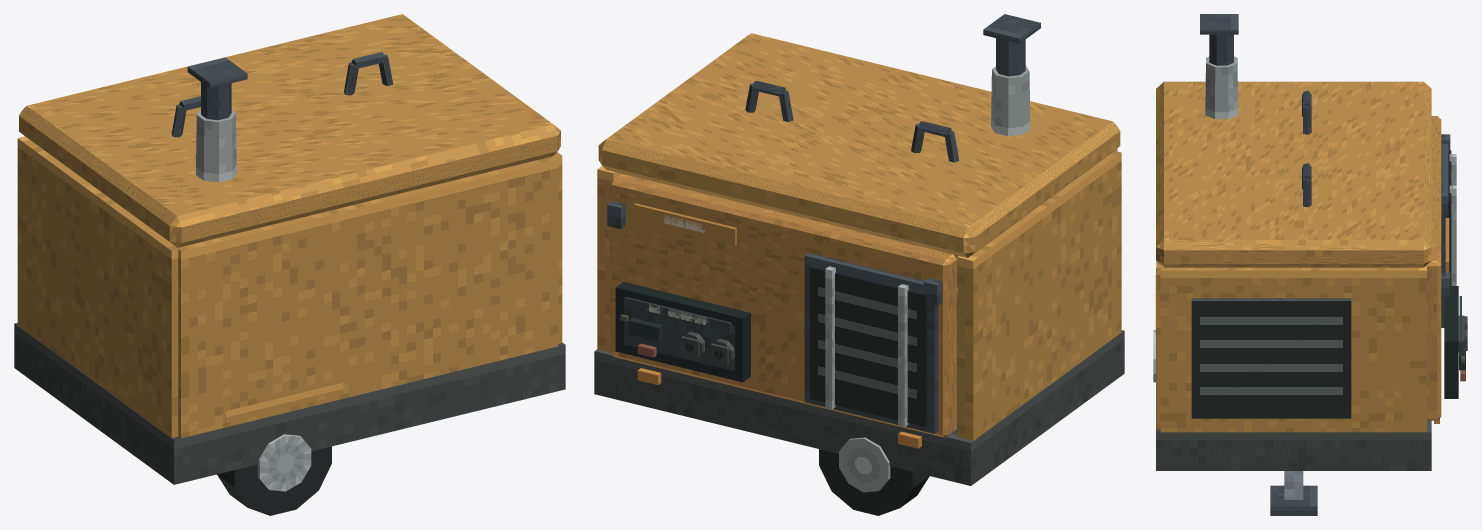
File: f_diesel_generator.glb
3 renders of one model, left to right at view 1: azimuth 30°, elevation 25°; view 2: azimuth 150°, elevation 25°; view 3: azimuth 270°, elevation 25°, orthographic. The views are drawn at different scales.
Visible parts, largest first — view 1: block_enclosure-back, block_enclosure-roof, block_enclosure-side (×2), block_reinforced-base, block_worksite-trailer-wheel, block_exhaust-heat-shield, block_trailer-wheel-hub, block_wheel-arch, block_exhaust-rain-cap, block_exhaust-stack; view 2: block_enclosure-roof, block_enclosure-side (×2), block_service-door, block_reinforced-base, block_recessed-radiator-face, block_recessed-output-panel, block_radiator-bezel, block_worksite-trailer-wheel, block_radiator-vertical-guard (×2), block_exhaust-heat-shield, block_trailer-wheel-hub, block_service-identification (+4 smaller); view 3: block_enclosure-roof, block_enclosure-side, block_side-vent, block_reinforced-base, block_service-door, block_exhaust-heat-shield, block_recessed-output-panel, block_parking-jack-foot, block_radiator-bezel, block_enclosure-back, block_exhaust-rain-cap, block_exhaust-stack (+3 smaller).
Boxes of the visible parts, <box> form: block_enclosure-back: <box>168,157,558,438</box>; block_enclosure-roof: <box>19,14,560,247</box>; block_enclosure-side (×2): <box>17,136,562,437</box>; block_reinforced-base: <box>14,322,565,484</box>; block_worksite-trailer-wheel: <box>217,446,331,515</box>; block_exhaust-heat-shield: <box>196,109,236,182</box>; block_trailer-wheel-hub: <box>257,434,311,491</box>; block_wheel-arch: <box>225,383,343,423</box>; block_exhaust-rain-cap: <box>187,57,247,88</box>; block_exhaust-stack: <box>201,82,231,120</box>; block_enclosure-roof: <box>598,33,1120,257</box>; block_enclosure-side (×2): <box>597,151,1121,440</box>; block_service-door: <box>610,173,956,437</box>; block_reinforced-base: <box>594,304,1124,485</box>; block_recessed-radiator-face: <box>810,266,927,427</box>; block_recessed-output-panel: <box>615,282,750,382</box>; block_radiator-bezel: <box>804,253,938,433</box>; block_worksite-trailer-wheel: <box>819,449,929,515</box>; block_radiator-vertical-guard (×2): <box>825,266,908,427</box>; block_exhaust-heat-shield: <box>991,65,1030,136</box>; block_trailer-wheel-hub: <box>839,437,890,492</box>; block_service-identification: <box>634,203,736,245</box>; block_enclosure-roof: <box>1156,81,1431,267</box>; block_enclosure-side: <box>1160,265,1426,432</box>; block_side-vent: <box>1191,298,1351,418</box>; block_reinforced-base: <box>1156,268,1431,470</box>; block_service-door: <box>1427,116,1441,420</box>; block_exhaust-heat-shield: <box>1205,56,1238,119</box>; block_recessed-output-panel: <box>1444,286,1458,398</box>; block_parking-jack-foot: <box>1270,485,1317,515</box>; block_radiator-bezel: <box>1441,144,1448,327</box>; block_enclosure-back: <box>1156,261,1178,429</box>; block_exhaust-rain-cap: <box>1200,14,1238,34</box>; block_exhaust-stack: <box>1209,34,1233,65</box>.
Bounding box in the file's own units: 0.98 × 1 × 0.776.
Materials: 1 (1 with a texture image).
